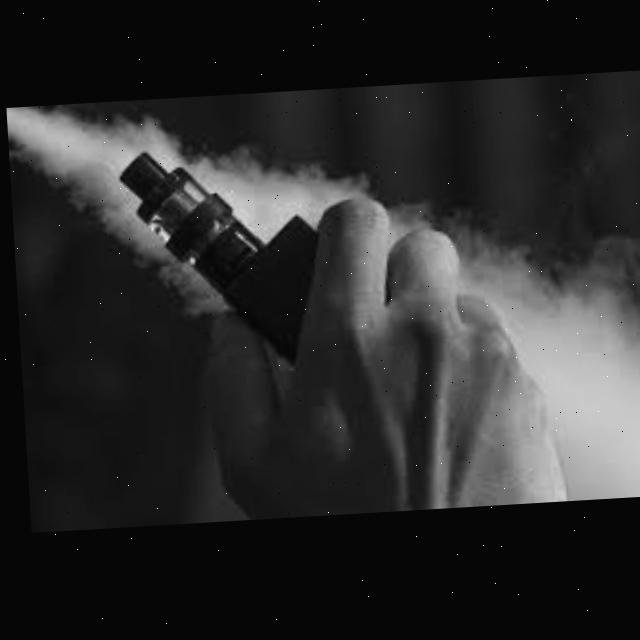vape: (114, 145, 321, 376)
